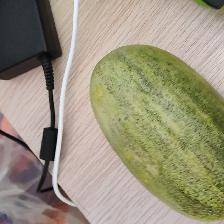gua: (114, 67, 224, 203)
